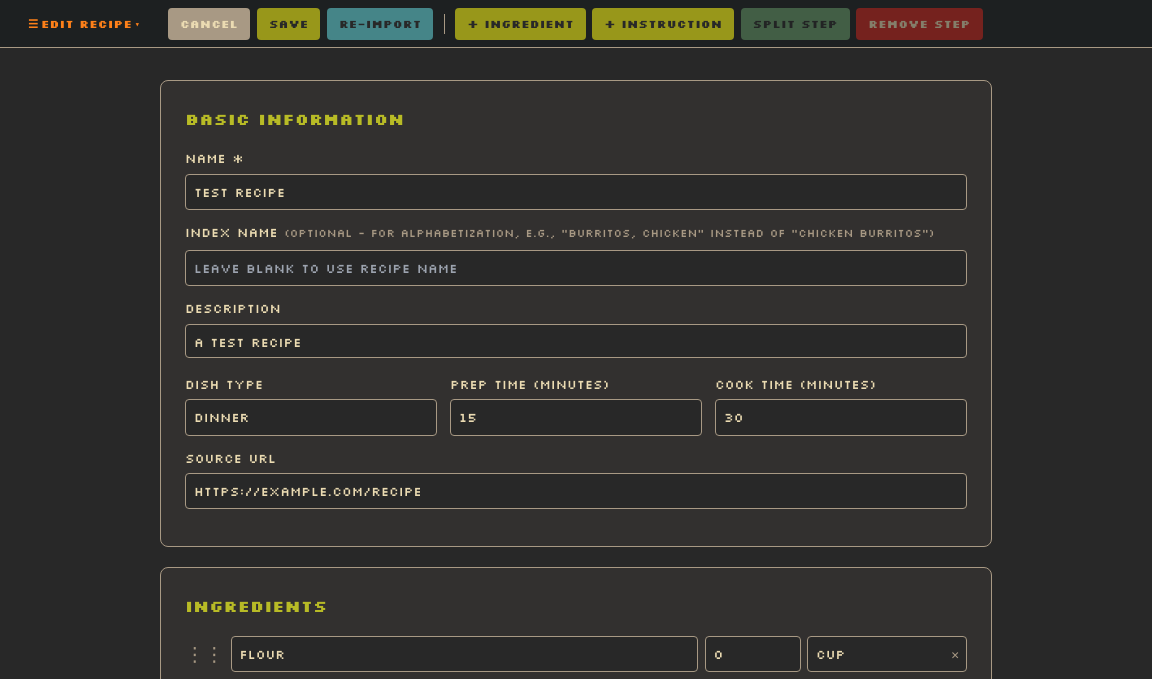
Scenario: RecipeForm › Form Submission › validates quantity is required when unit is set
Click the button "Save" at (288, 24), box [257,8,320,40]
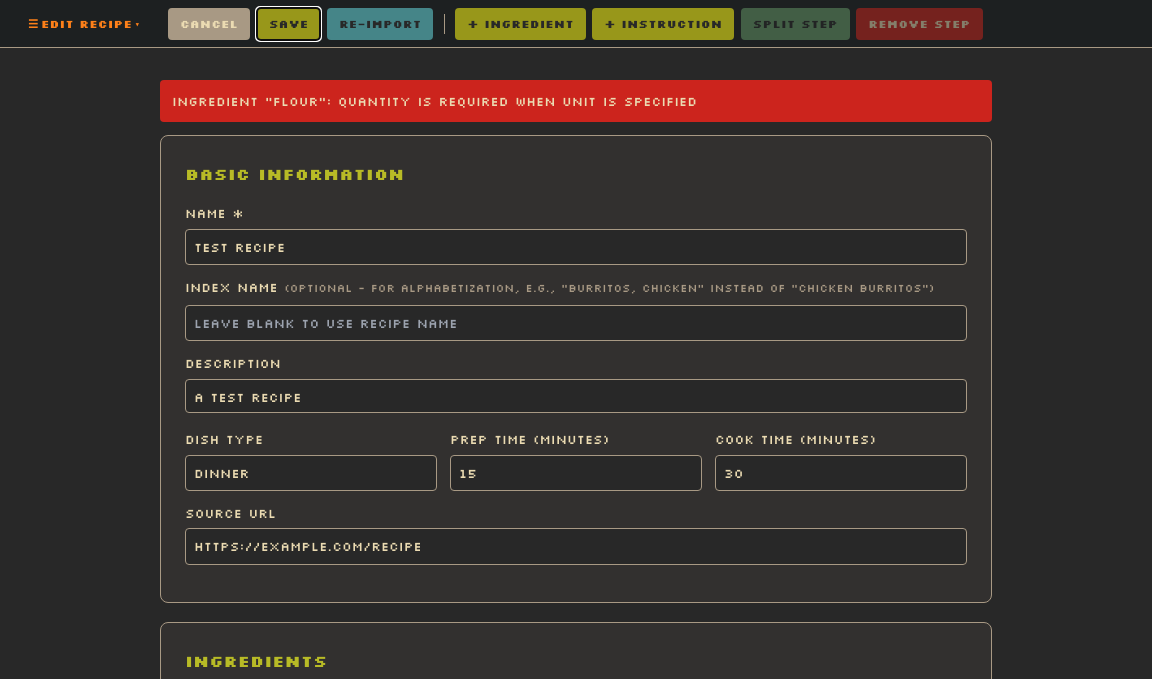
Check: the text "quantity is required when unit is specified" is shown, box [172,93,697,109]
